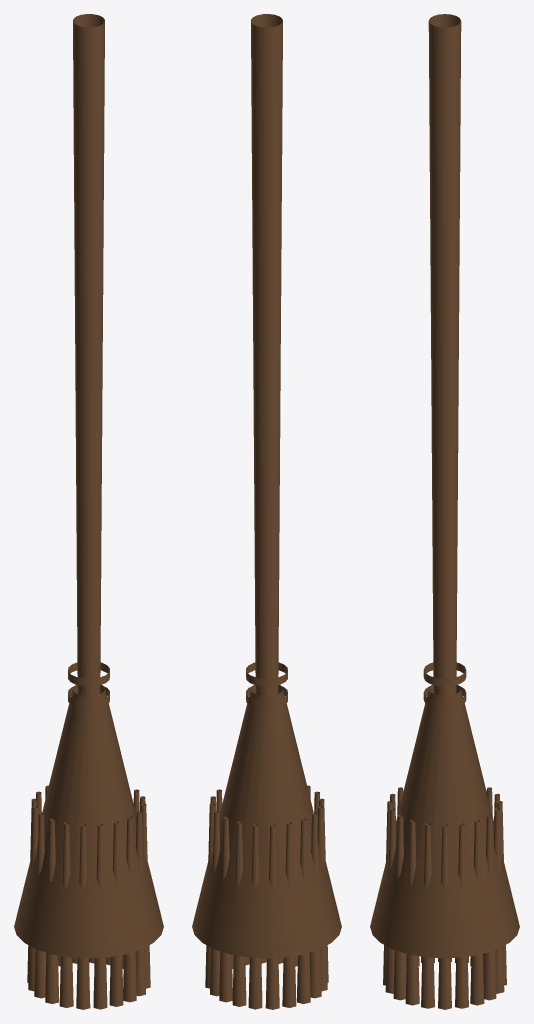
File: broom-proxy.glb
3 views of the same model, side by side, from view 1: azimuth 30°, elevation 25°; view 2: azimuth 150°, elevation 25°; view 3: azimuth 270°, elevation 25° (orthographic).
Parts seen in each view (by area): view 1: Windmere broom proxy; view 2: Windmere broom proxy; view 3: Windmere broom proxy.
Part boxes in pixels (box(x1,y1,x2,y2)): Windmere broom proxy: box(14, 14, 163, 1009); Windmere broom proxy: box(192, 14, 341, 1009); Windmere broom proxy: box(370, 14, 519, 1009).
Bounding box in the file's own units: 0.6 × 4.25 × 0.6.
